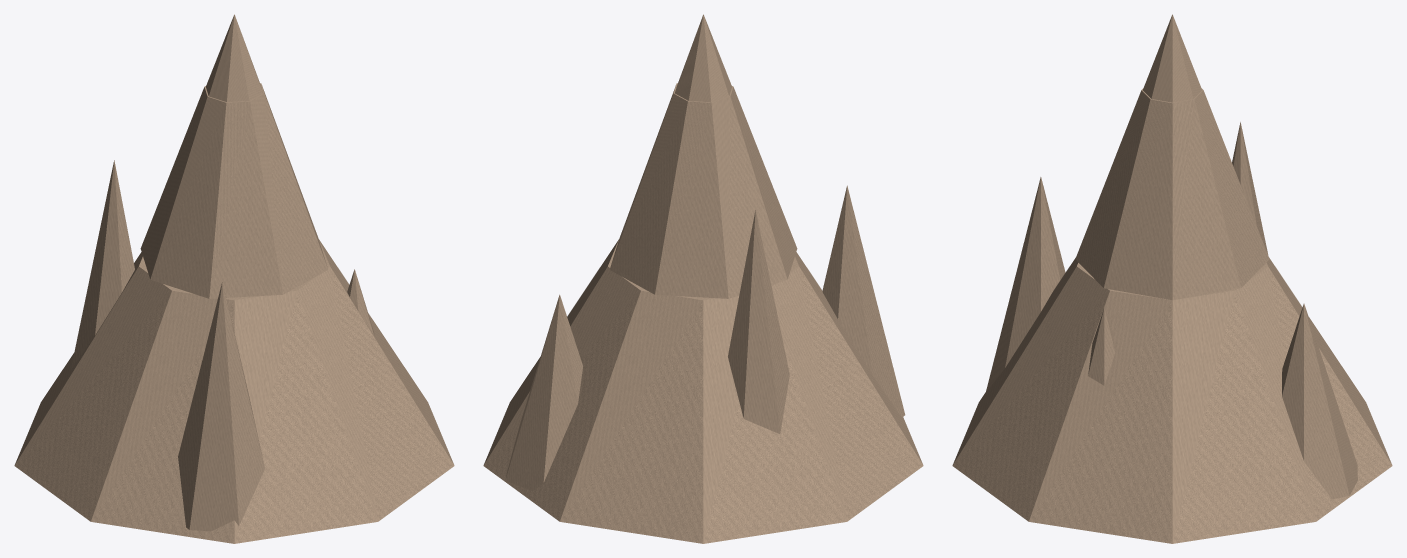
File: safari-camp-and-bush-lodge-termite-mound-1472d7e0__37717.glb
3 renders of one model, left to right at view 1: azimuth 30°, elevation 25°; view 2: azimuth 150°, elevation 25°; view 3: azimuth 270°, elevation 25°, orthographic.
Parts seen in each view (by area): view 1: termite-mound-earth; view 2: termite-mound-earth; view 3: termite-mound-earth.
Part boxes in pixels (bbox=[...]): termite-mound-earth: bbox=[14, 14, 454, 543]; termite-mound-earth: bbox=[483, 14, 923, 543]; termite-mound-earth: bbox=[952, 14, 1392, 543].
Bounding box in the file's own units: 2.23 × 2.47 × 2.26.
Materials: 1 (1 with a texture image).
